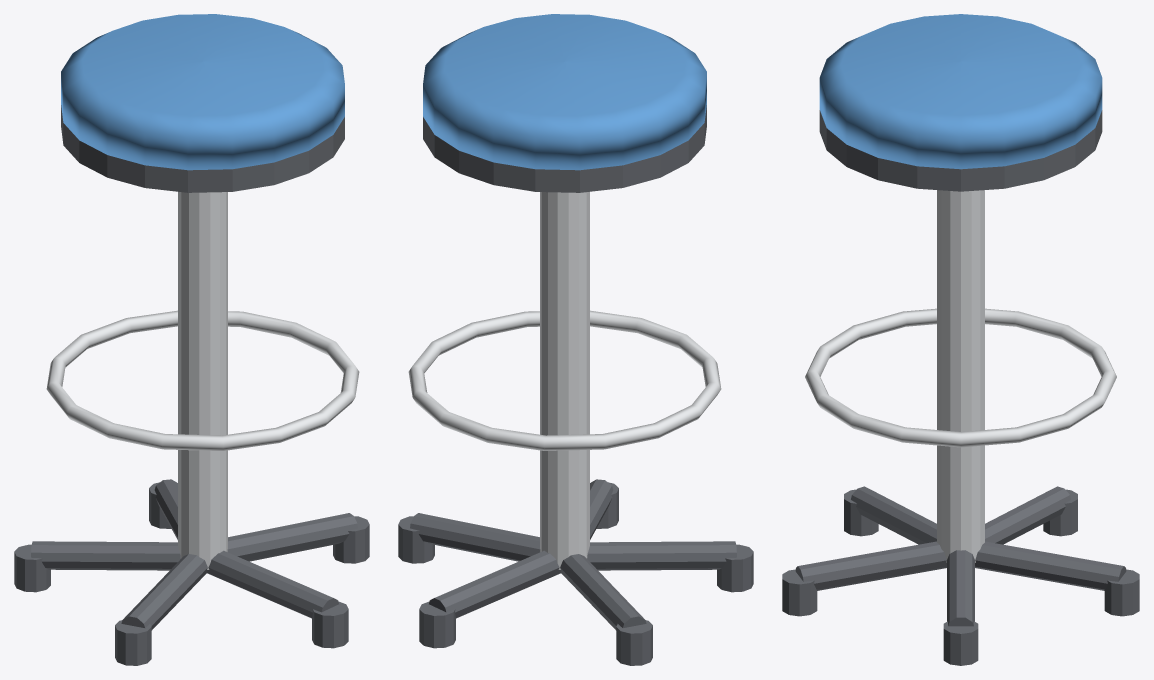
Rendered from lab-stool-tall.glb.
3 renders of one model, left to right at view 1: azimuth 30°, elevation 25°; view 2: azimuth 150°, elevation 25°; view 3: azimuth 270°, elevation 25°, orthographic.
Parts seen in each view (by area): view 1: lab-stool-tall, seat/blue, seat/dark; view 2: lab-stool-tall, seat/blue, seat/dark; view 3: lab-stool-tall, seat/blue, seat/dark.
Boxes of the visible parts, x1,y1,x2,y2 form: lab-stool-tall: (14, 192, 369, 665); seat/blue: (61, 14, 344, 170); seat/dark: (61, 105, 344, 192); lab-stool-tall: (398, 192, 753, 665); seat/blue: (423, 14, 706, 170); seat/dark: (423, 105, 706, 192); lab-stool-tall: (782, 190, 1139, 665); seat/blue: (819, 14, 1102, 169); seat/dark: (819, 110, 1102, 191).
Size of the model in its own units: 0.487 by 0.82 by 0.506.
